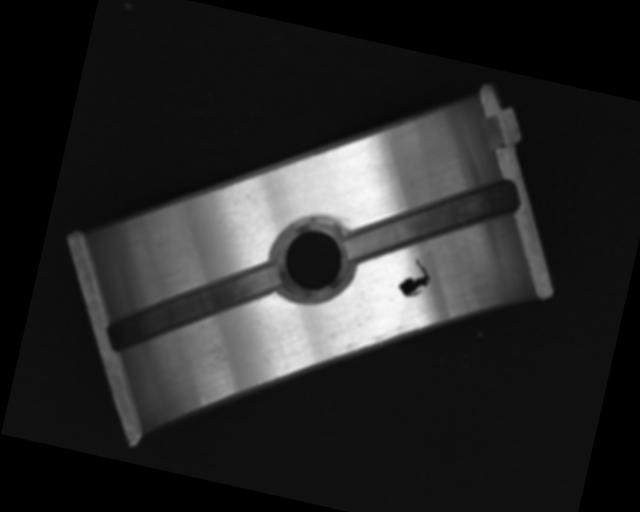blot: (395, 254, 434, 301)
gap: (104, 232, 285, 380), (343, 147, 521, 292)
hole: (274, 215, 357, 302)
